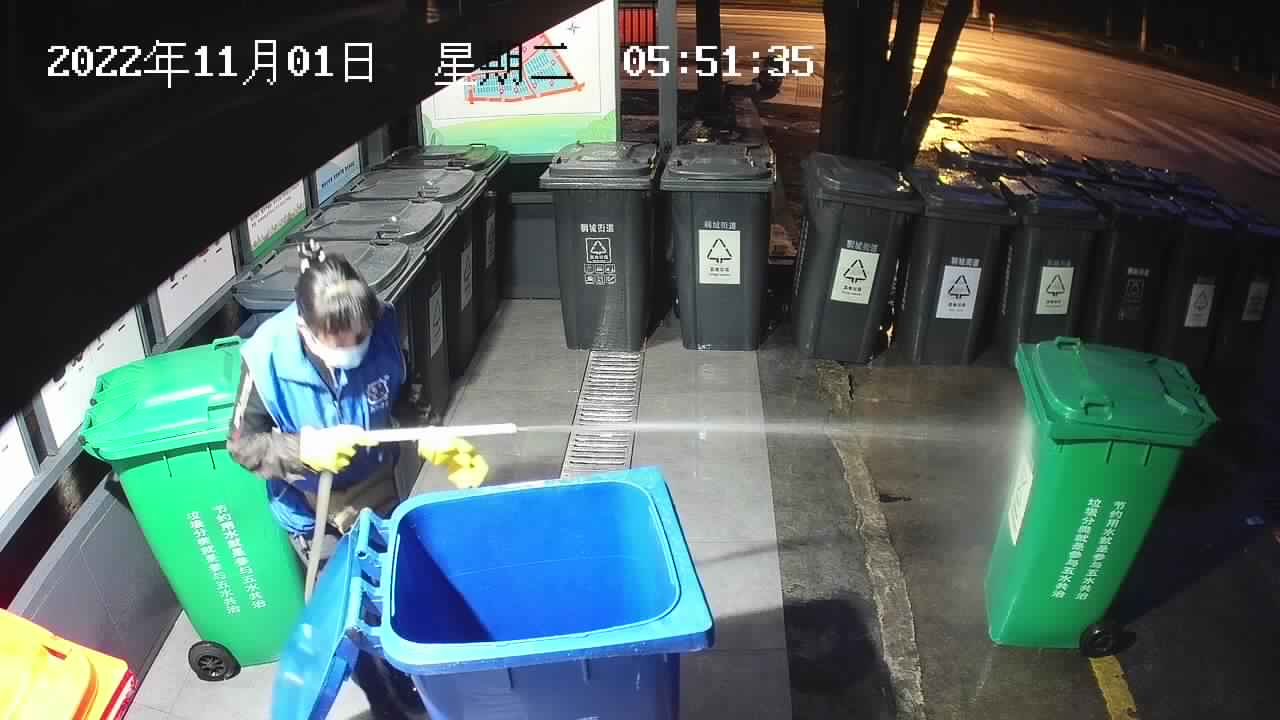worker: (225, 236, 489, 583)
